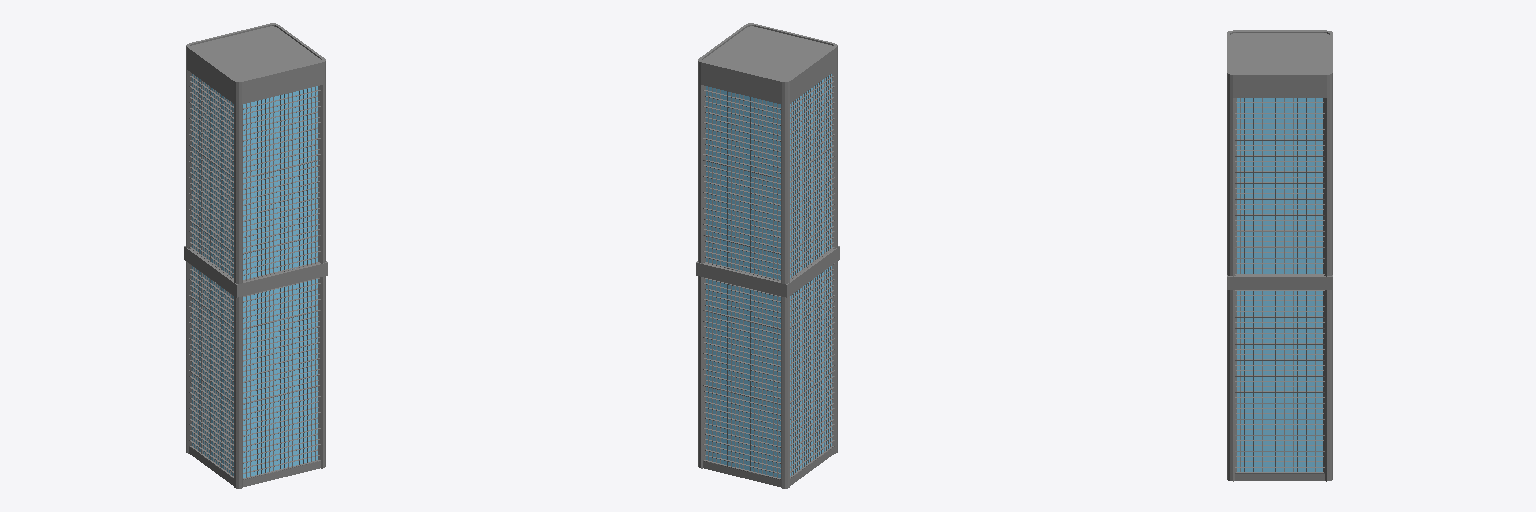
The model's file is SkyA.obj.
3 views of the same model, side by side, from view 1: azimuth 30°, elevation 25°; view 2: azimuth 150°, elevation 25°; view 3: azimuth 270°, elevation 25° (orthographic).
Visible parts, largest first — view 1: Gengon01_0, Box01_1; view 2: Gengon01_0, Box01_1; view 3: Gengon01_0, Box01_1.
Part boxes in pixels (x1,y1,x2,y2): Gengon01_0: (186,23,325,488); Box01_1: (184,246,327,297); Gengon01_0: (698,23,837,488); Box01_1: (696,246,839,297); Gengon01_0: (1227,30,1332,481); Box01_1: (1227,275,1332,289).
Bounding box in the file's own units: 170 × 719 × 170.